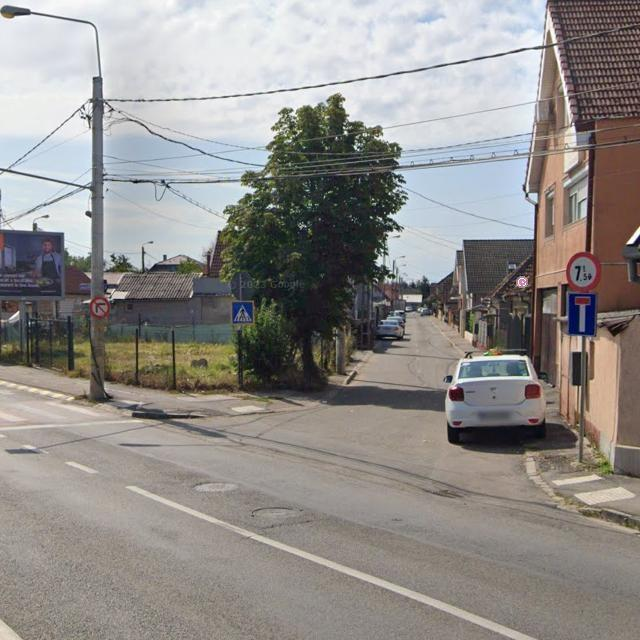info_crosswalk: (231, 301, 254, 325)
